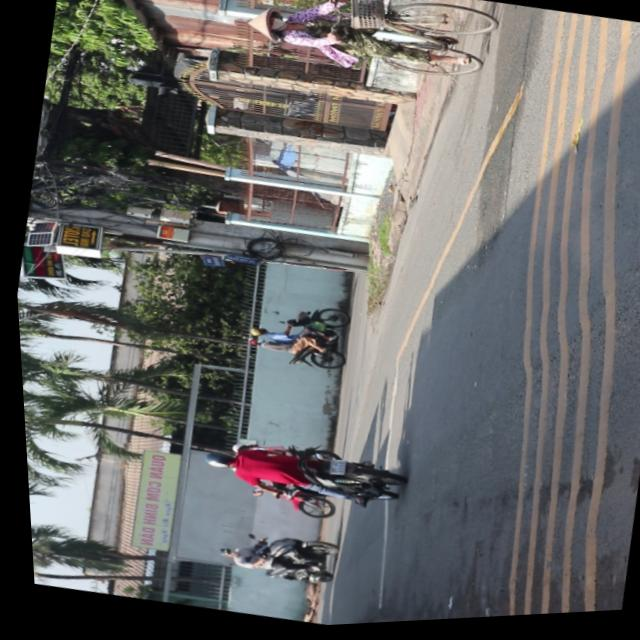helmet: (194, 446, 234, 475)
licenseplate: (189, 424, 405, 526)
nohelmet: (321, 461, 338, 479)
